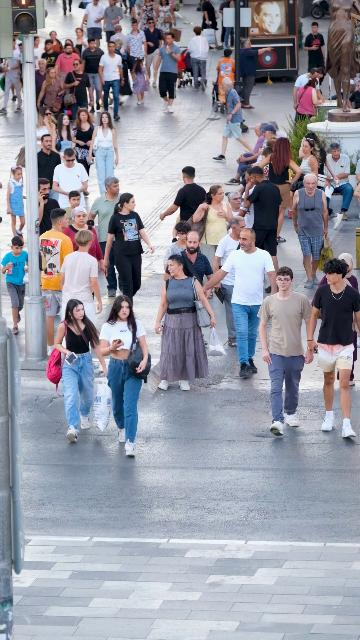person: (203, 227, 278, 379), (306, 257, 360, 440), (256, 266, 314, 436), (155, 254, 217, 393), (98, 294, 149, 457), (54, 299, 109, 443), (60, 230, 104, 377), (104, 193, 155, 303), (38, 208, 74, 356), (243, 165, 283, 295), (256, 137, 303, 242), (211, 216, 247, 347), (291, 175, 330, 289), (87, 177, 122, 297), (158, 165, 206, 243), (212, 76, 253, 162), (191, 185, 235, 259), (225, 124, 277, 186), (63, 207, 105, 274), (164, 230, 214, 286), (1, 236, 29, 335), (88, 110, 119, 195), (239, 37, 274, 110), (238, 146, 273, 217), (323, 142, 354, 222), (52, 148, 89, 212), (153, 31, 181, 113), (98, 40, 125, 121), (61, 58, 94, 121), (82, 37, 105, 113), (107, 25, 131, 94), (5, 165, 27, 240), (71, 108, 96, 174), (162, 220, 193, 272), (302, 21, 325, 88), (140, 18, 162, 88), (187, 25, 210, 91), (37, 178, 61, 239), (36, 67, 66, 113), (293, 67, 323, 112), (295, 78, 325, 122), (237, 123, 267, 167), (111, 51, 133, 106), (37, 135, 62, 183), (80, 0, 105, 48), (200, 0, 224, 49), (298, 138, 320, 191), (128, 58, 152, 106), (127, 21, 147, 76), (54, 43, 80, 85), (55, 113, 75, 165), (35, 106, 59, 149), (226, 191, 252, 229), (247, 138, 277, 167), (103, 0, 124, 41), (219, 0, 236, 49), (38, 39, 60, 74), (61, 191, 81, 229), (216, 49, 235, 85), (35, 59, 48, 110), (262, 121, 288, 144), (75, 28, 89, 59), (237, 167, 252, 195), (14, 146, 26, 169), (64, 38, 73, 47)
